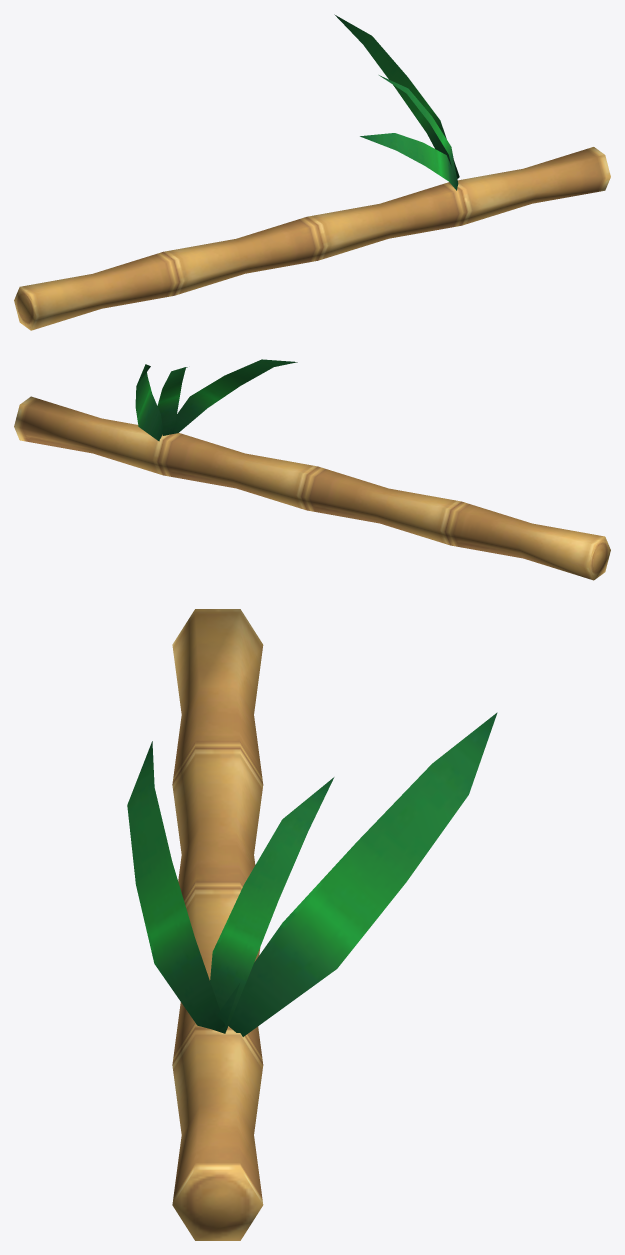
Rendered from item_weaswobamboo.glb.
3 views of the same model, one above another, from view 1: azimuth 30°, elevation 25°; view 2: azimuth 150°, elevation 25°; view 3: azimuth 270°, elevation 25° (orthographic). The views are drawn at different scales.
Visible parts, largest first — view 1: item_0; view 2: item_0; view 3: item_0.
Boxes of the visible parts, bbox=[...] form: item_0: bbox=[14, 14, 610, 330]; item_0: bbox=[14, 359, 610, 580]; item_0: bbox=[127, 609, 497, 1240].
Size of the model in its own units: 1.25 by 0.3522 by 0.35.
Materials: 1 (1 with a texture image).
